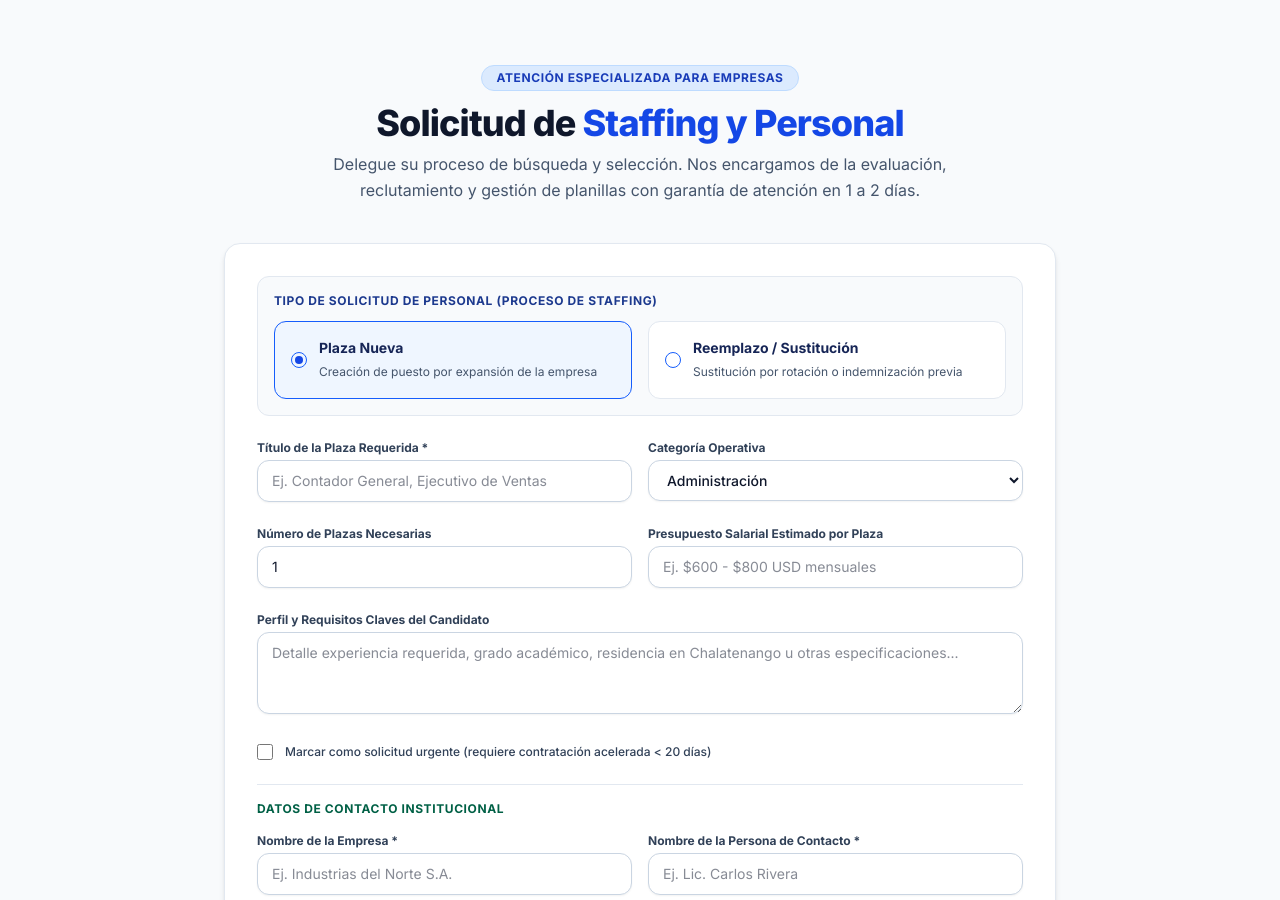
Test: StaffingRequestForm Component › allows filling form and submitting a staffing request
This screenshot has width=1280, height=900.
Type "Gerente de Logística" into the field with placeholder "Ej. Contador General, Ejecutivo de Ventas" at (444, 481), box [257,460,632,502]
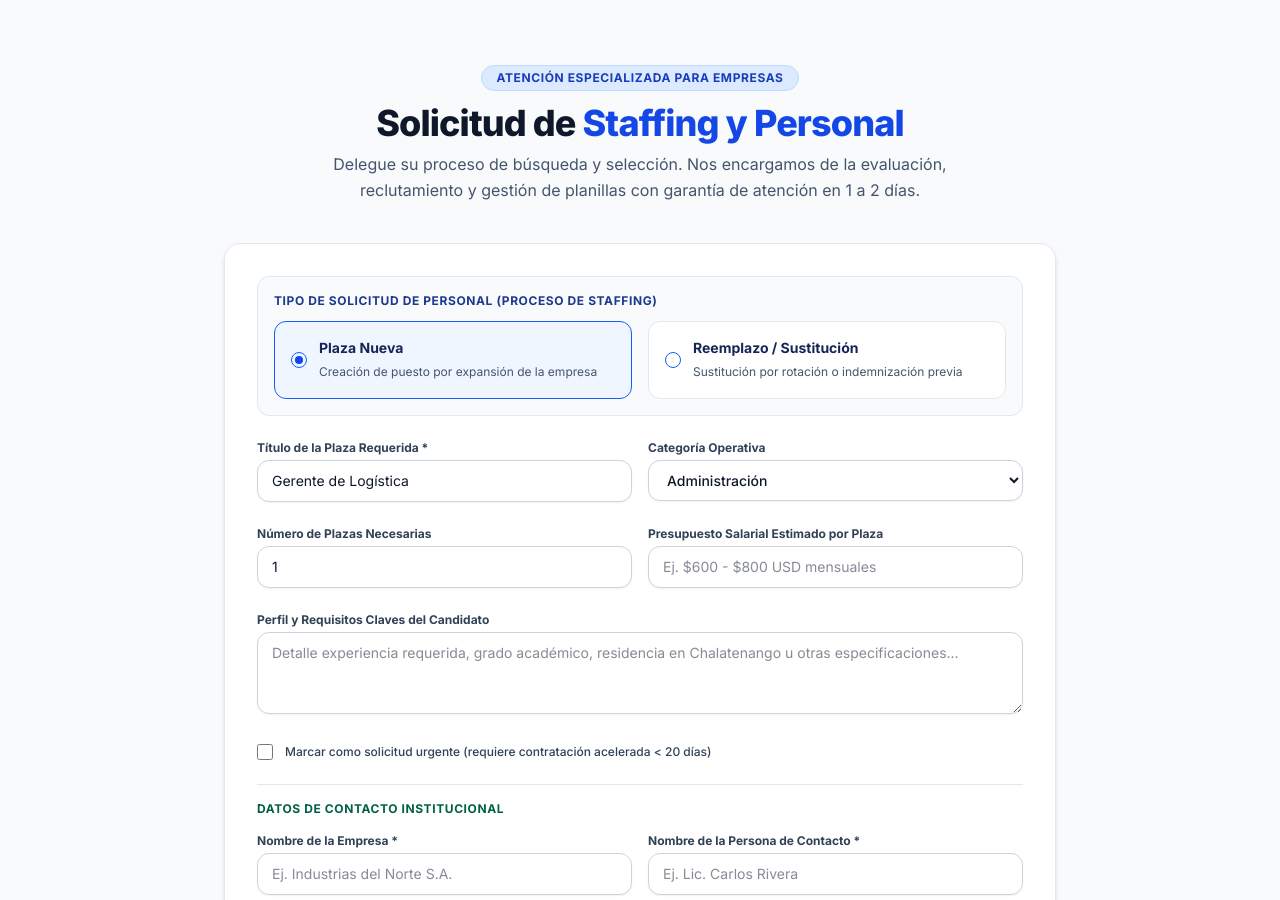
Type "Empresa Test S.A." into the field with placeholder "Ej. Industrias del Norte S.A." at (444, 874), box [257,853,632,895]
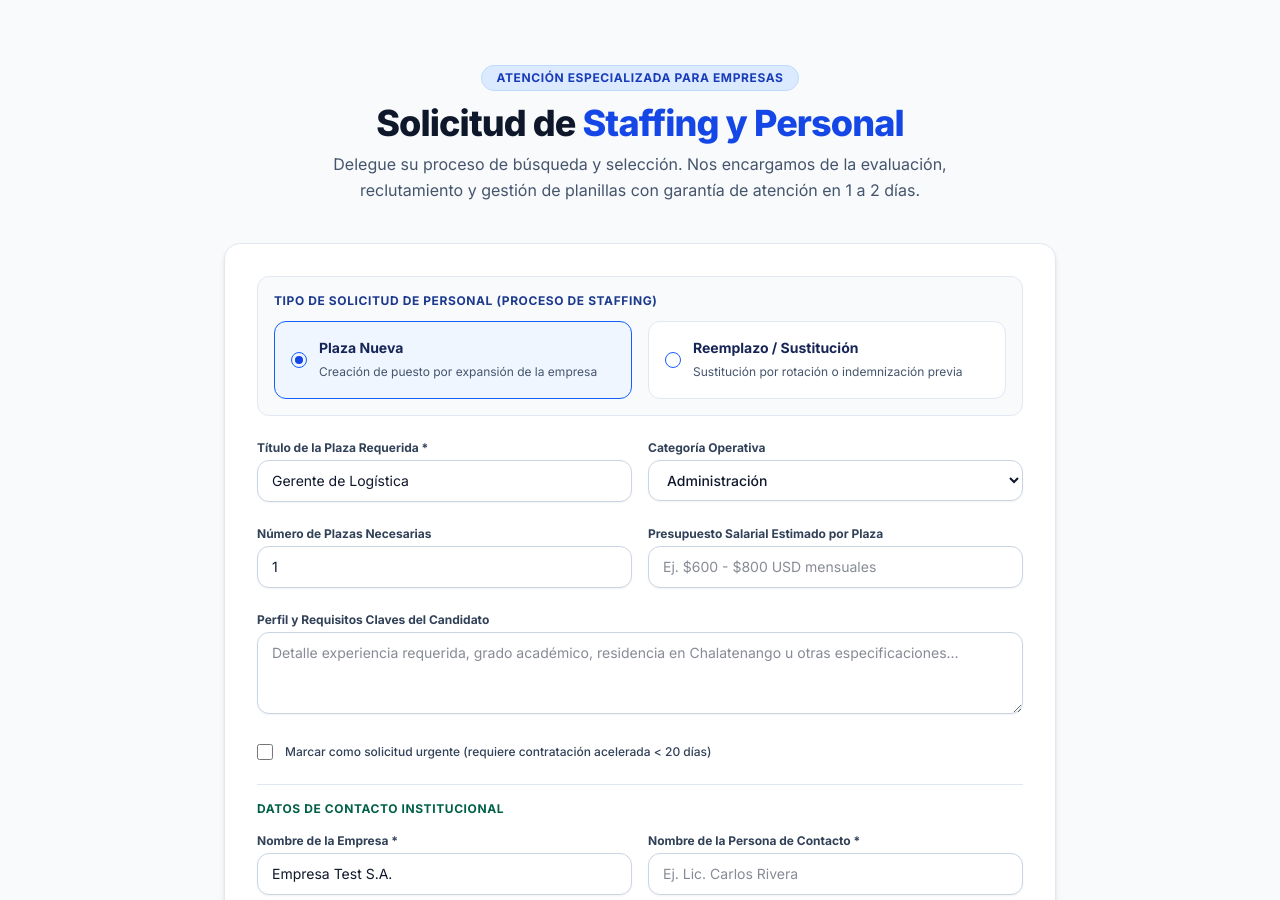
Type "Carlos Rivera" into the field with placeholder "Ej. Lic. Carlos Rivera" at (836, 874), box [648,853,1023,895]
(page scrolled)
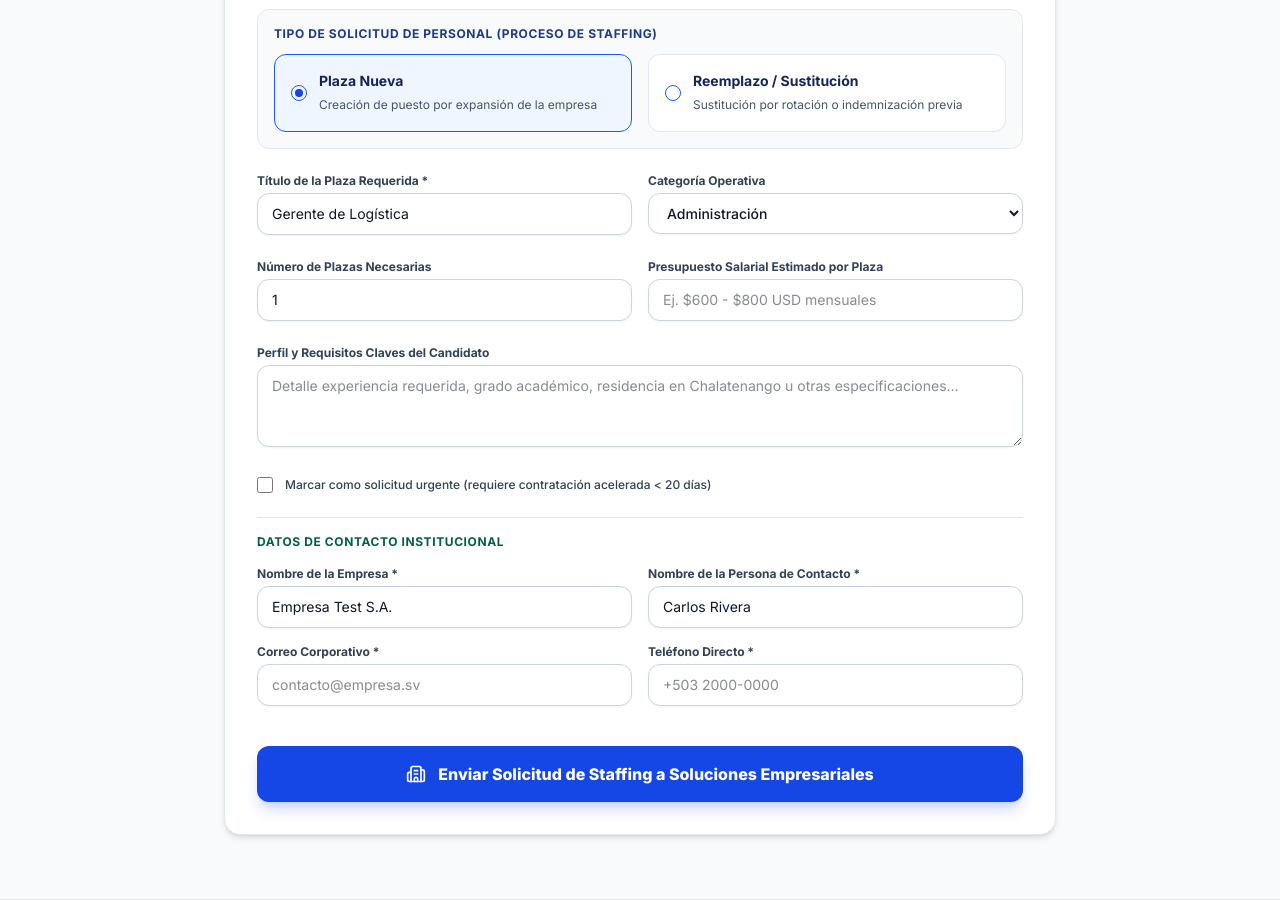
Type "contacto@test.sv" into the field with placeholder "contacto@empresa.sv" at (444, 685), box [257,664,632,706]
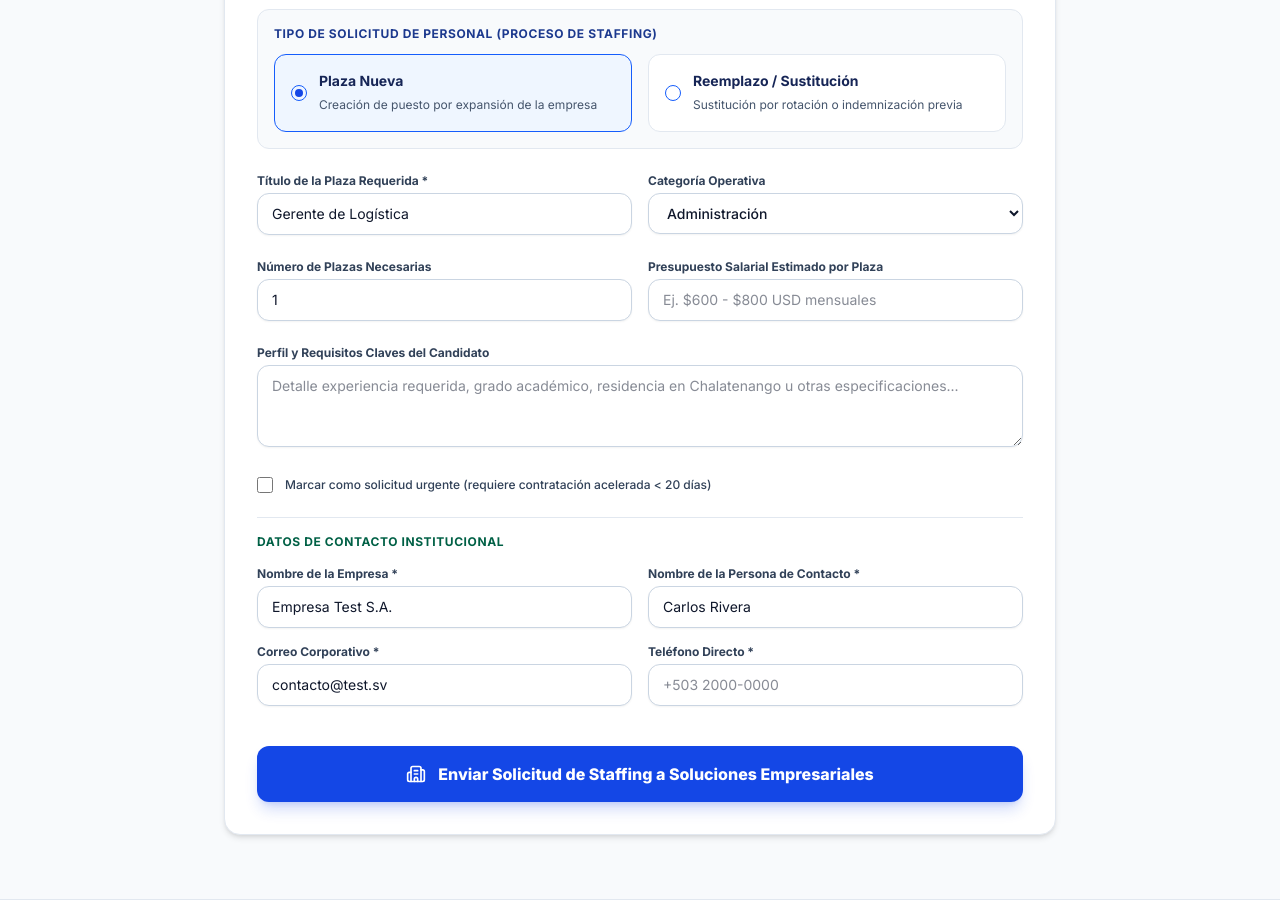
Type "+503 2222-3333" into the field with placeholder "+503 2000-0000" at (836, 685), box [648,664,1023,706]
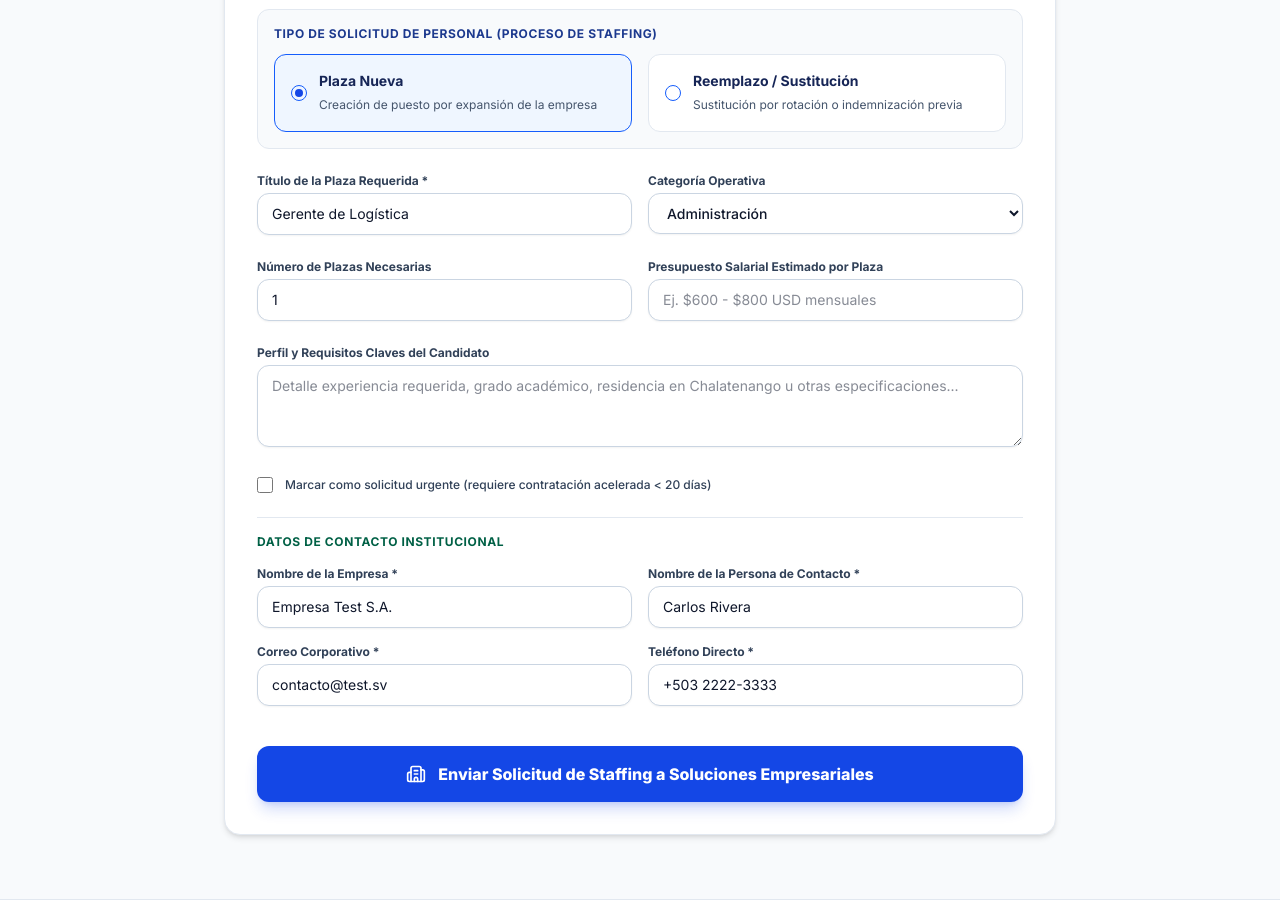
Click the button "Enviar Solicitud de Staffing a Soluciones Empresariales" at (640, 774), box [257,746,1023,802]
(page scrolled)
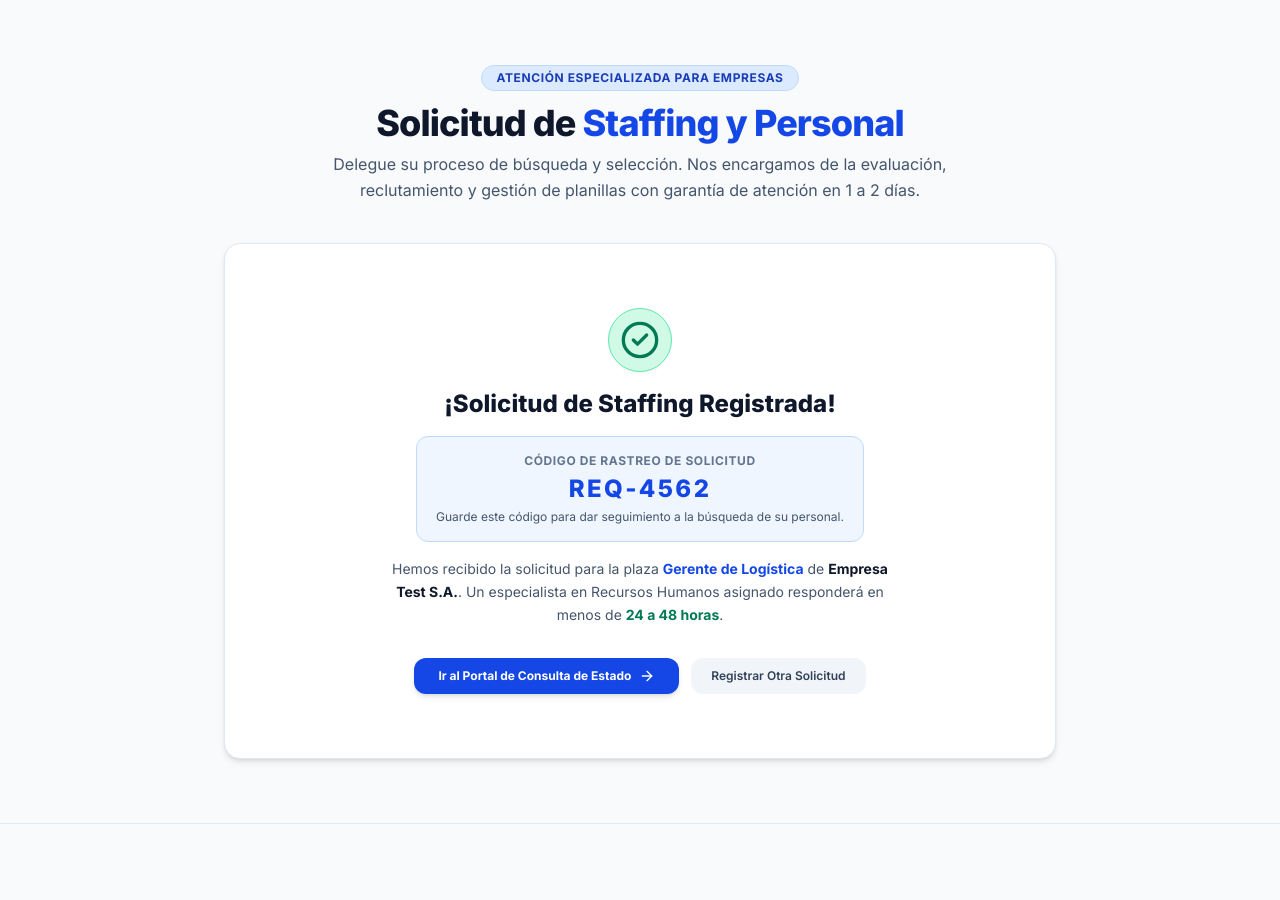
Check: the heading "¡Solicitud de Staffing Registrada!" is shown, box [444,389,836,418]
